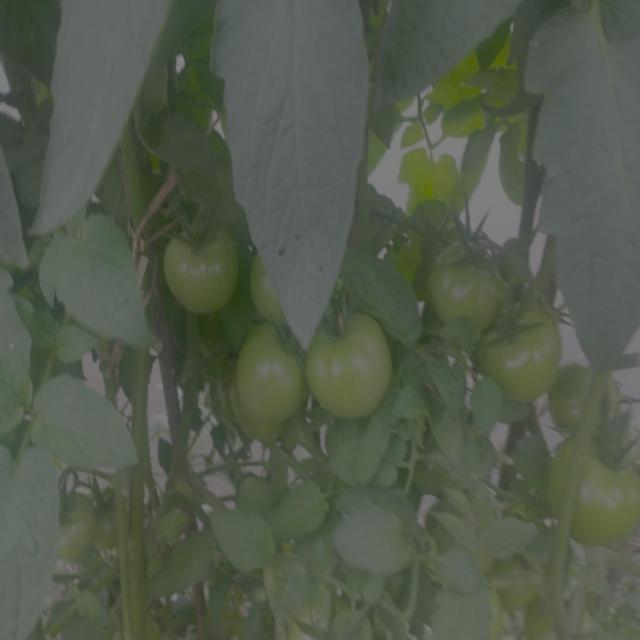tomato: (311, 308, 397, 418), (552, 434, 640, 538), (233, 324, 303, 439), (487, 300, 558, 408), (426, 228, 498, 331), (163, 219, 234, 313), (554, 362, 620, 430), (250, 246, 301, 330), (495, 546, 550, 604), (58, 485, 88, 564), (95, 488, 126, 549), (527, 605, 577, 640)
